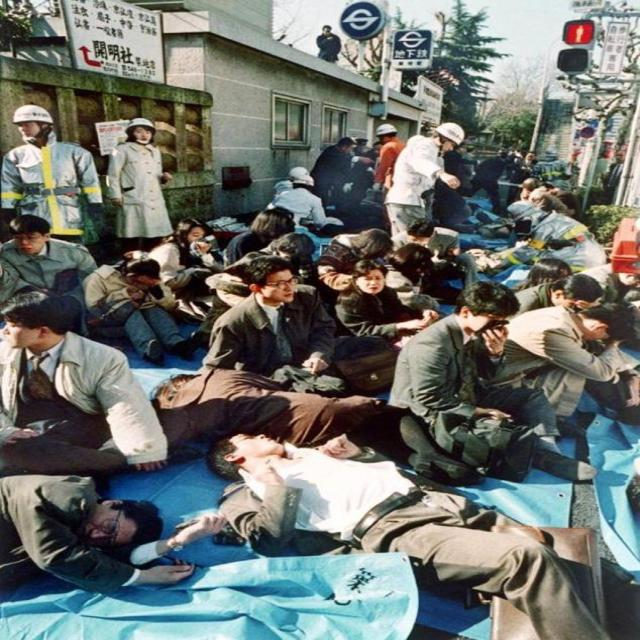body: (205, 430, 628, 640), (382, 278, 598, 485), (148, 366, 484, 488), (0, 290, 171, 479), (0, 473, 197, 600), (197, 255, 365, 397), (477, 302, 635, 438), (0, 103, 104, 243), (79, 250, 198, 368), (471, 198, 609, 290), (382, 121, 467, 252), (107, 116, 175, 260), (0, 212, 98, 307), (332, 258, 442, 341), (143, 214, 229, 301), (378, 242, 452, 318), (221, 232, 319, 287), (496, 272, 606, 320), (315, 227, 395, 292), (224, 206, 298, 266), (458, 151, 522, 215), (306, 136, 358, 206), (514, 176, 568, 241), (268, 174, 329, 227), (508, 256, 573, 293), (441, 144, 475, 198), (602, 258, 640, 305), (507, 150, 539, 203), (600, 148, 628, 206), (270, 165, 311, 199), (315, 22, 342, 64), (458, 144, 479, 198), (404, 220, 439, 249), (351, 136, 374, 157), (508, 144, 526, 160), (371, 140, 384, 158), (537, 182, 556, 192)
